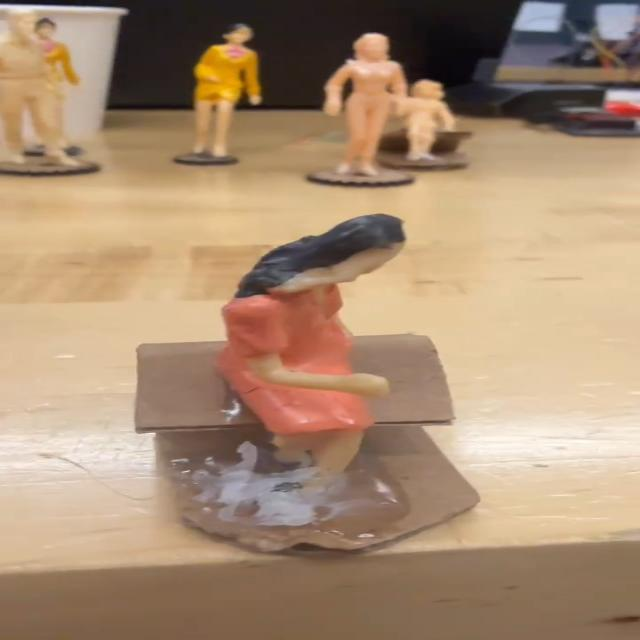Authorized: (212, 211, 417, 500)
